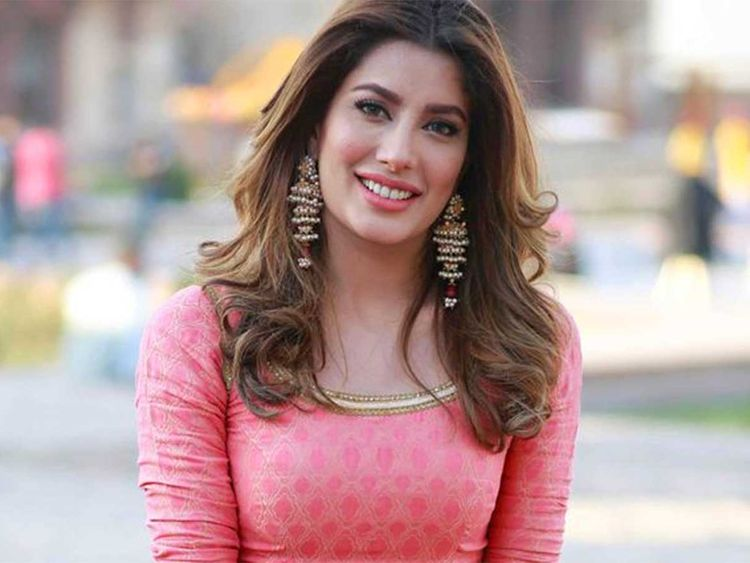NoMask: (334, 77, 464, 242)
